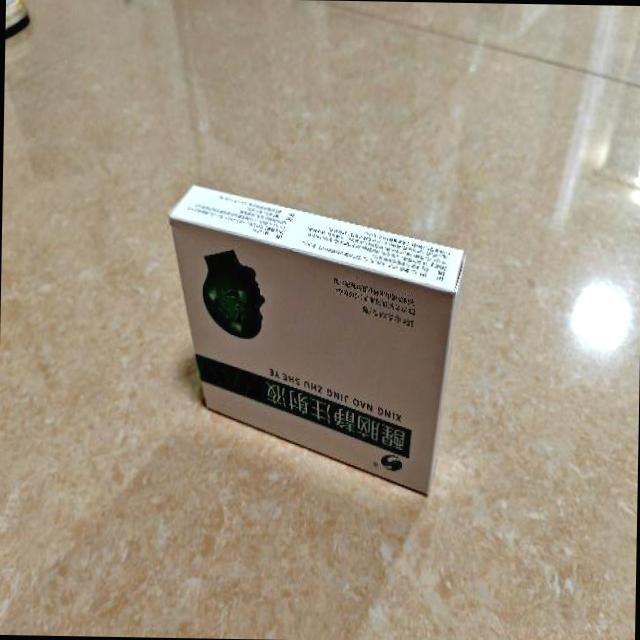box: (164, 184, 465, 493)
